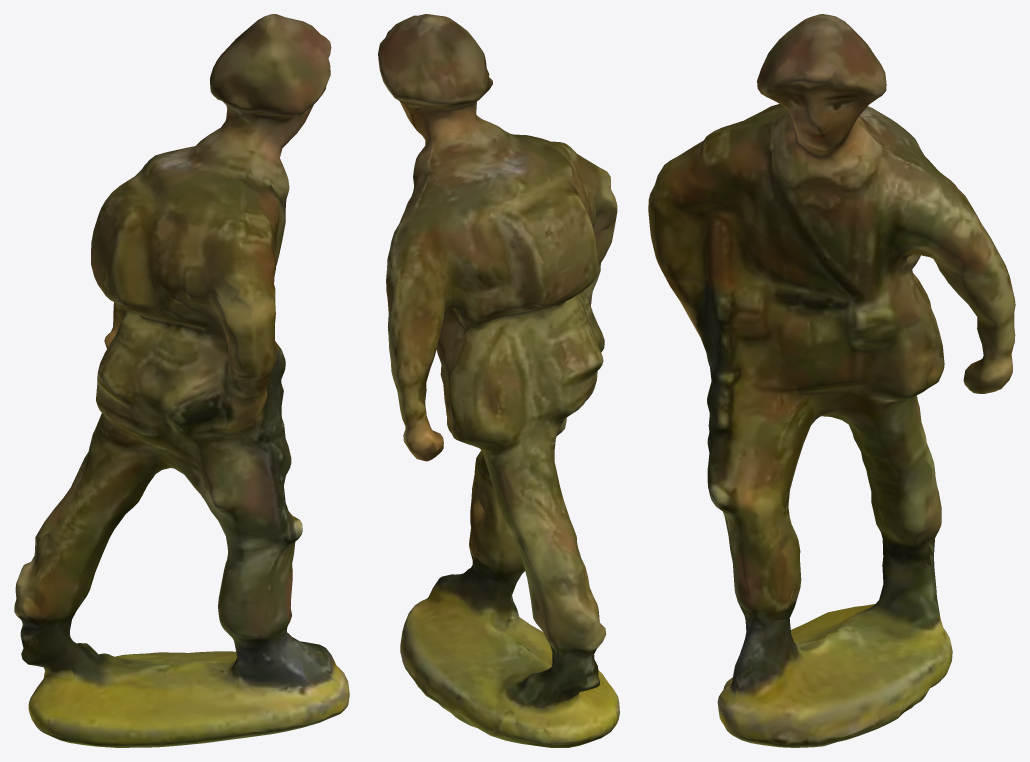
File: t_jug_soldado.glb
The picture shows the model from 3 angles, left to right: view 1: azimuth 30°, elevation 25°; view 2: azimuth 150°, elevation 25°; view 3: azimuth 270°, elevation 25°; orthographic projection. The views are drawn at different scales.
Visible parts, largest first — view 1: Object_2; view 2: Object_2; view 3: Object_2.
Boxes of the visible parts, x1,y1,x2,y2 form: Object_2: [14, 14, 349, 747]; Object_2: [378, 14, 619, 747]; Object_2: [648, 14, 1015, 747].
Size of the model in its own units: 0.0887 by 0.22 by 0.0996.
1 material, 1 textured.
